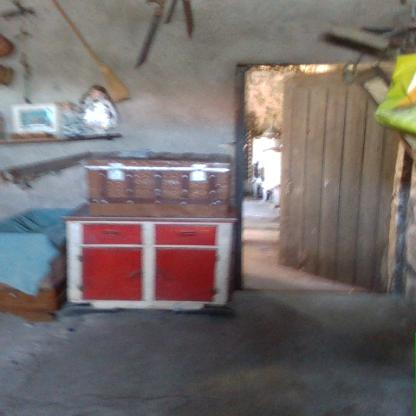semi: (214, 53, 400, 302)
